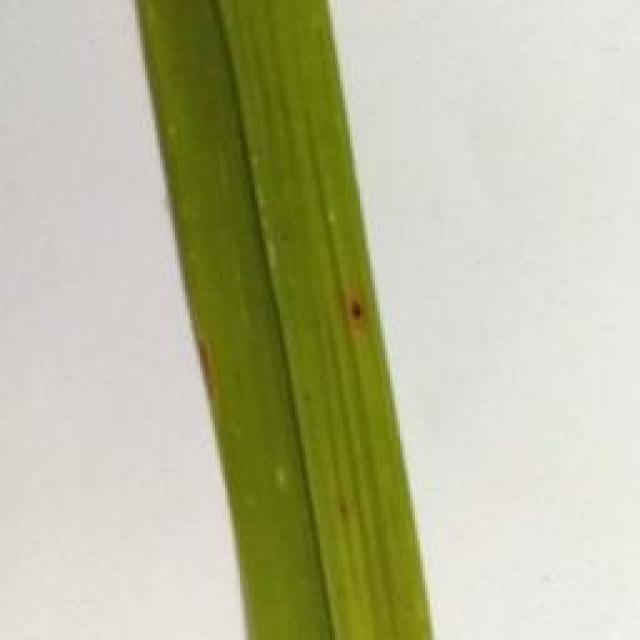Brown_Spot: (194, 340, 233, 408), (337, 291, 373, 335)
